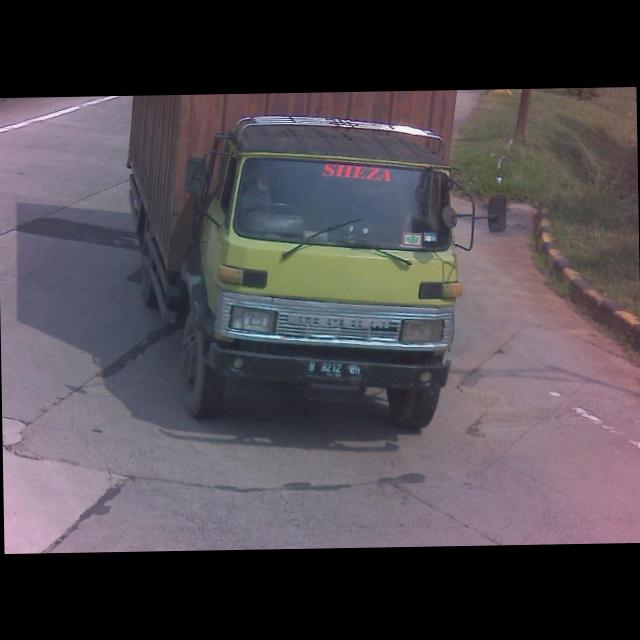plate: (307, 358, 363, 380)
